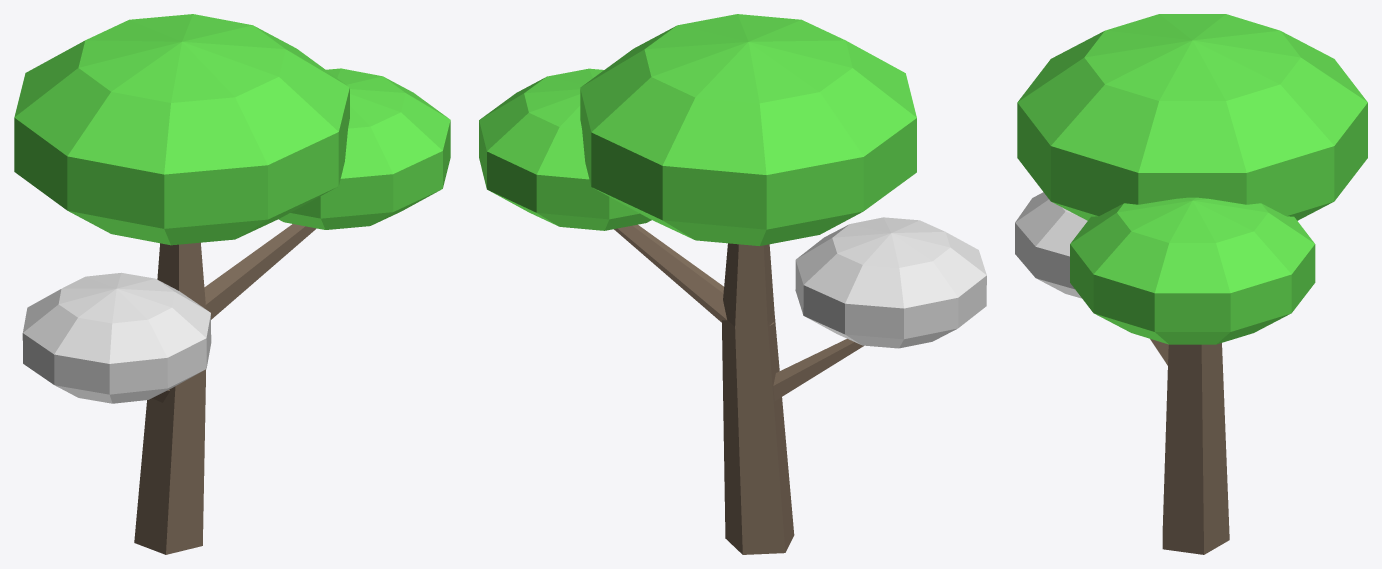
Rendered from tree1.fbx.
3 views of the same model, side by side, from view 1: azimuth 30°, elevation 25°; view 2: azimuth 150°, elevation 25°; view 3: azimuth 270°, elevation 25° (orthographic). The views are drawn at different scales.
Parts seen in each view (by area): view 1: tree1; view 2: tree1; view 3: tree1.
Part boxes in pixels (x1,y1,x2,y2): tree1: (14, 14, 450, 554); tree1: (479, 14, 986, 554); tree1: (1015, 14, 1367, 554).
Size of the model in its own units: 278 by 303 by 191.
